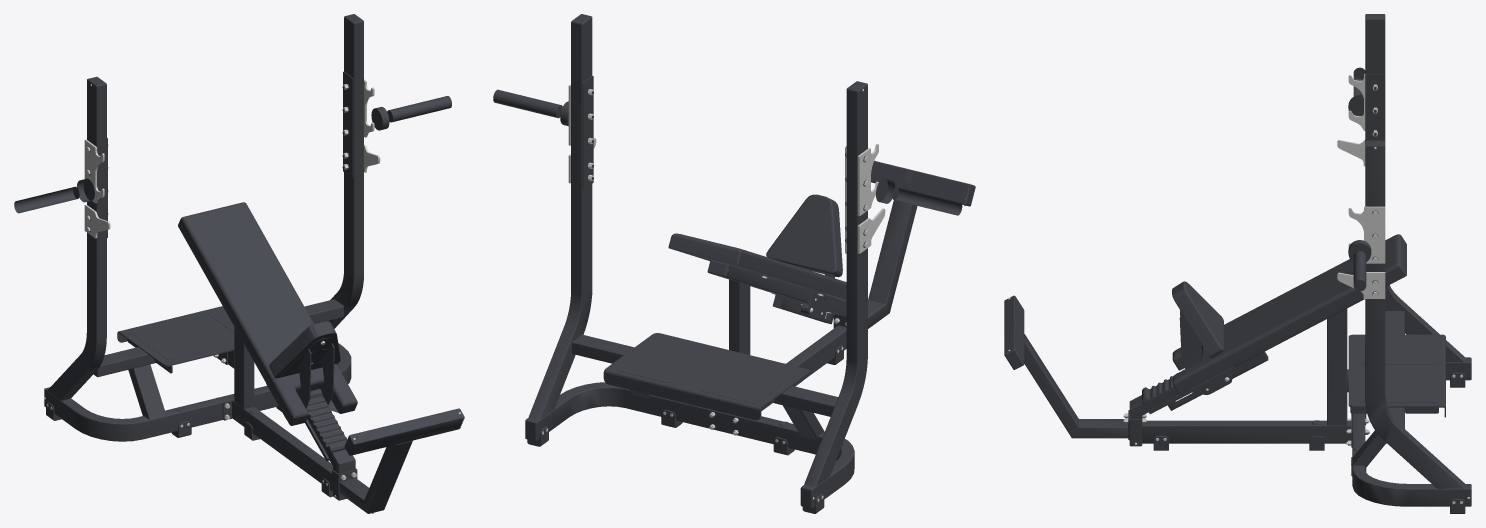
Rendered from olympicinclinedbench-terra.glb.
The picture shows the model from 3 angles, left to right: view 1: azimuth 30°, elevation 25°; view 2: azimuth 150°, elevation 25°; view 3: azimuth 270°, elevation 25°; orthographic projection. The views are drawn at different scales.
Visible parts, largest first — view 1: Mesh_1, Mesh_7, Mesh_0, Mesh_3; view 2: Mesh_1, Mesh_0, Mesh_7, Mesh_3; view 3: Mesh_1, Mesh_7, Mesh_0, Mesh_3, Mesh_4.
Boxes of the visible parts, <box> form: Mesh_1: <box>44,17,463,513</box>; Mesh_7: <box>178,202,357,425</box>; Mesh_0: <box>14,14,464,500</box>; Mesh_3: <box>44,79,460,497</box>; Mesh_1: <box>526,18,969,513</box>; Mesh_0: <box>493,14,975,508</box>; Mesh_7: <box>668,194,846,299</box>; Mesh_3: <box>542,84,971,501</box>; Mesh_1: <box>1004,20,1470,513</box>; Mesh_7: <box>1172,234,1406,394</box>; Mesh_0: <box>1004,14,1471,506</box>; Mesh_3: <box>1008,74,1469,504</box>; Mesh_4: <box>1189,366,1438,413</box>.
Size of the model in its own units: 1.98 by 1.6 by 1.84.
3 materials, 1 textured.
